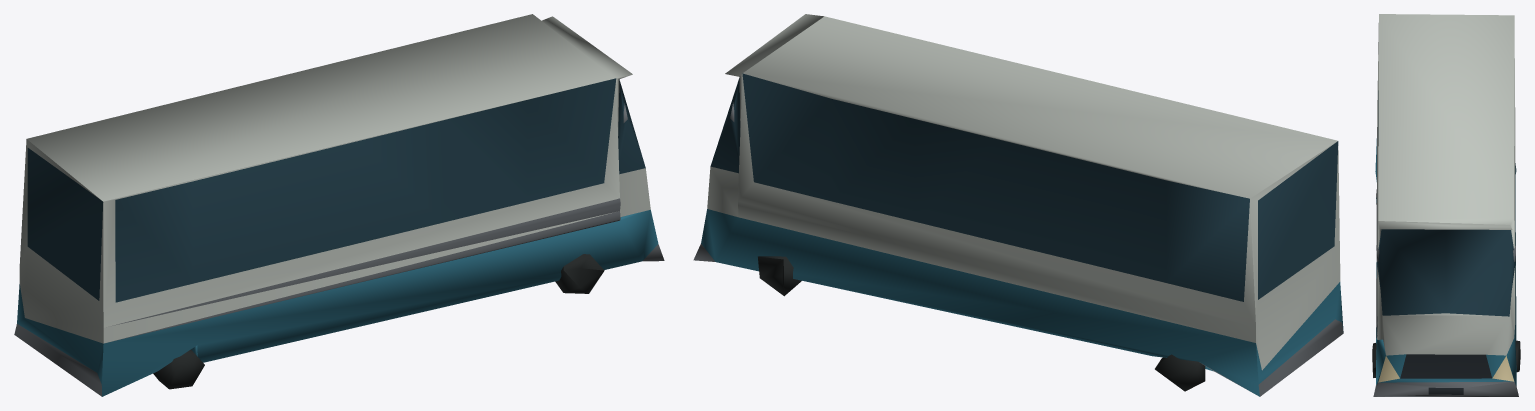
Rendered from bus-lo.glb.
The picture shows the model from 3 angles, left to right: view 1: azimuth 30°, elevation 25°; view 2: azimuth 150°, elevation 25°; view 3: azimuth 270°, elevation 25°; orthographic projection. The views are drawn at different scales.
Visible parts, largest first — view 1: BackWheels; view 2: BackWheels; view 3: BackWheels.
Part boxes in pixels (x1,y1,x2,y2): BackWheels: (14, 14, 664, 396); BackWheels: (693, 14, 1343, 396); BackWheels: (1372, 14, 1520, 396).
Size of the model in its own units: 8.73 by 3.1 by 2.42.
